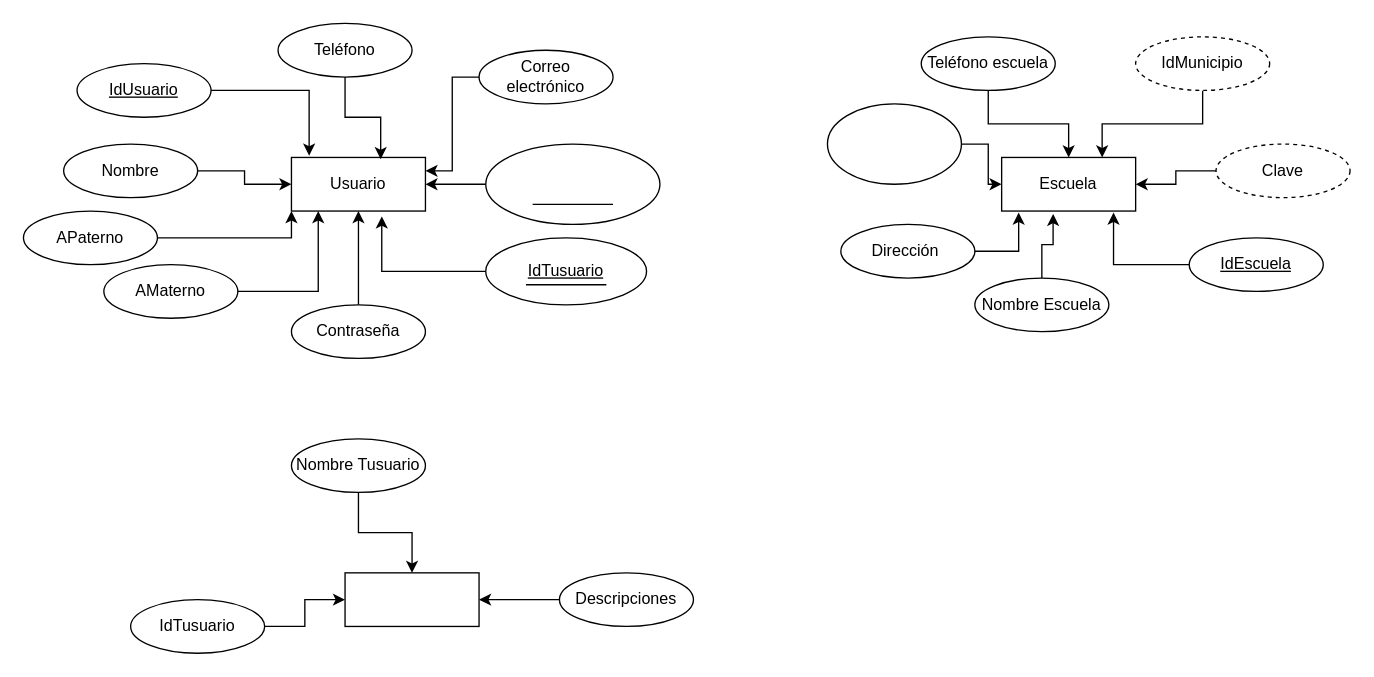
Some shapes in this 1374 by 677 pixel diagram are drawn without their labels. Each missing label, with the box of its shape:
Correo electrónico escuela: (826, 103, 961, 184)
IdPlantel: (484, 143, 660, 224)
TUsuario: (344, 572, 479, 626)
